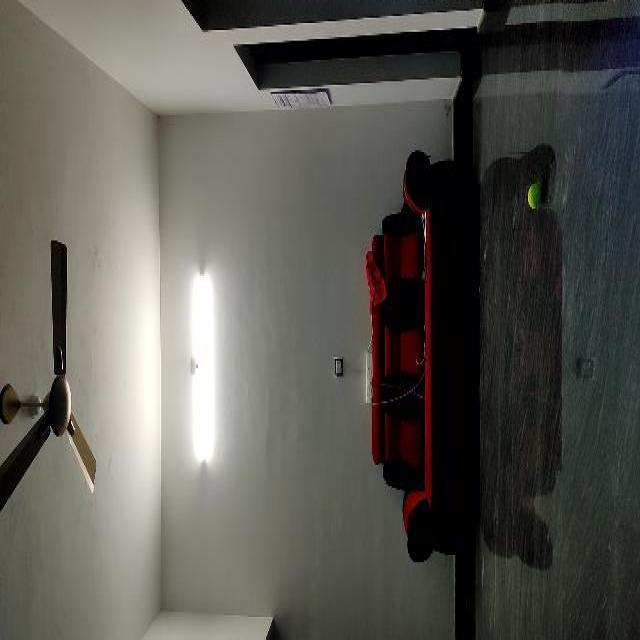tennis-ball: (527, 182, 542, 208)
